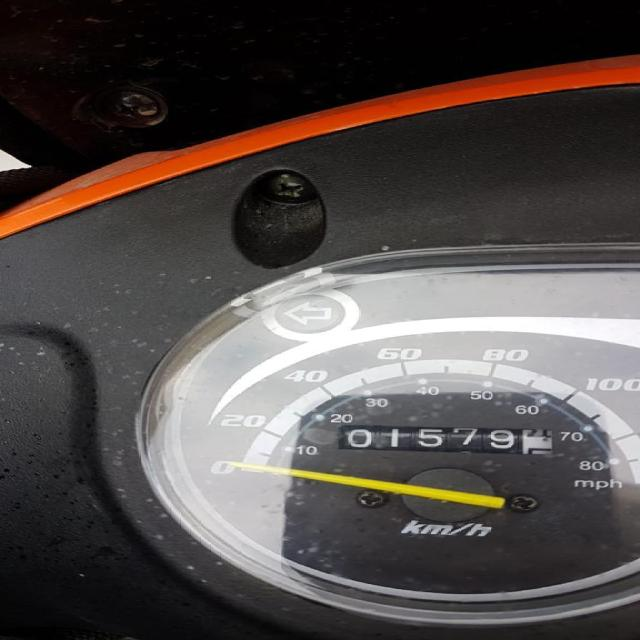odometer: (331, 422, 558, 456)
